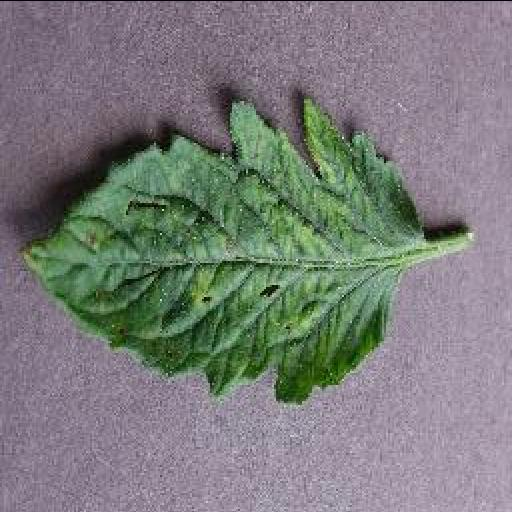disease_tomato: (16, 86, 420, 400)
